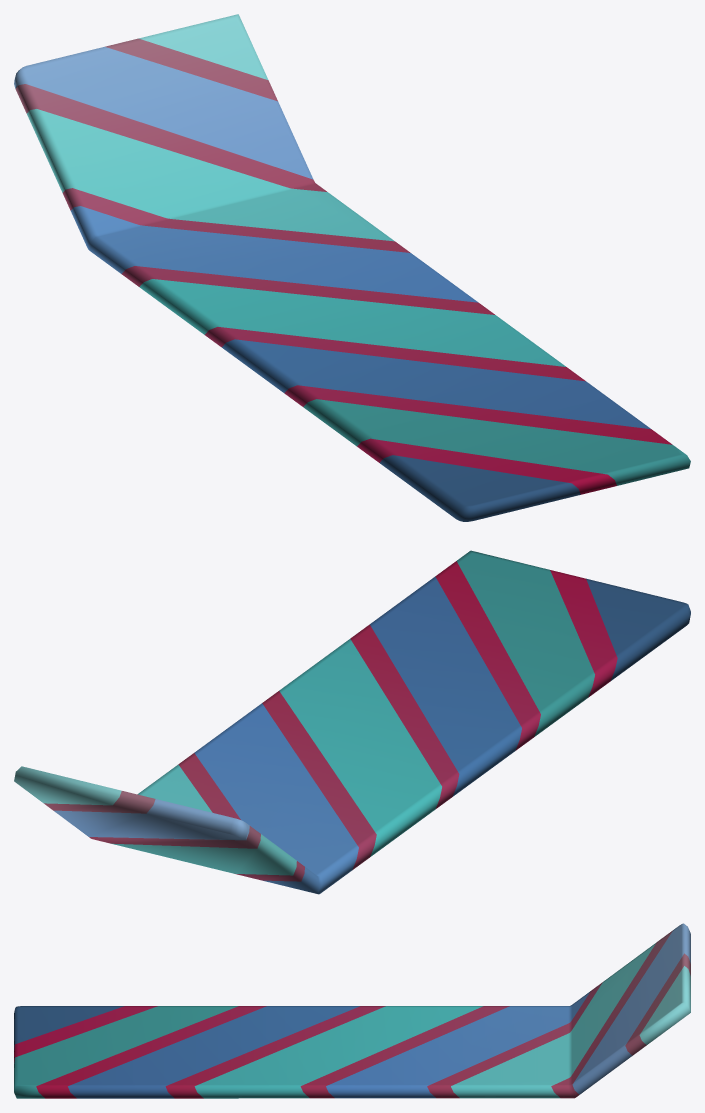
Rendered from SunLounger_Mattress_Diagonal_A.fbx.
3 renders of one model, top to bottom at view 1: azimuth 30°, elevation 25°; view 2: azimuth 150°, elevation 25°; view 3: azimuth 270°, elevation 25°, orthographic. The views are drawn at different scales.
Visible parts, largest first — view 1: SunLounger_Mattress_Diagonal_A; view 2: SunLounger_Mattress_Diagonal_A; view 3: SunLounger_Mattress_Diagonal_A.
Boxes of the visible parts, x1,y1,x2,y2 form: SunLounger_Mattress_Diagonal_A: [14, 14, 690, 521]; SunLounger_Mattress_Diagonal_A: [14, 550, 690, 894]; SunLounger_Mattress_Diagonal_A: [14, 923, 690, 1098].
Bounding box in the file's own units: 45.43 × 24.42 × 157.
